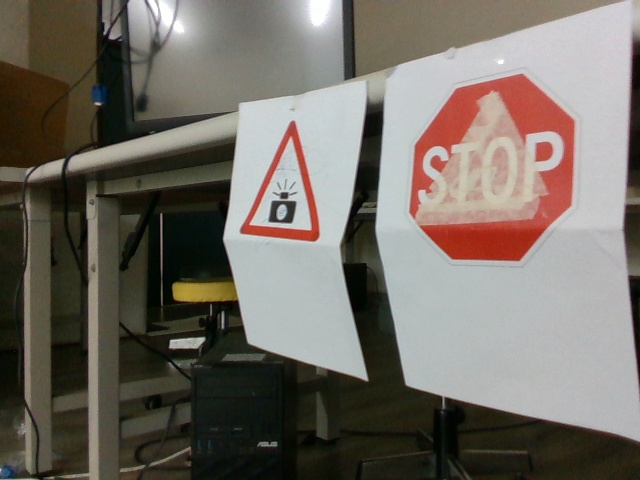camera: (240, 118, 320, 243)
stop: (407, 69, 579, 265)
